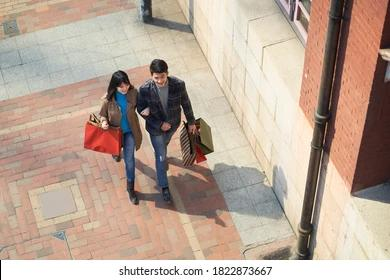jacket: (136, 76, 196, 134), (100, 86, 142, 151)
short sleeve shirt: (114, 92, 134, 134)
trousers: (150, 127, 176, 189), (112, 132, 136, 184)
